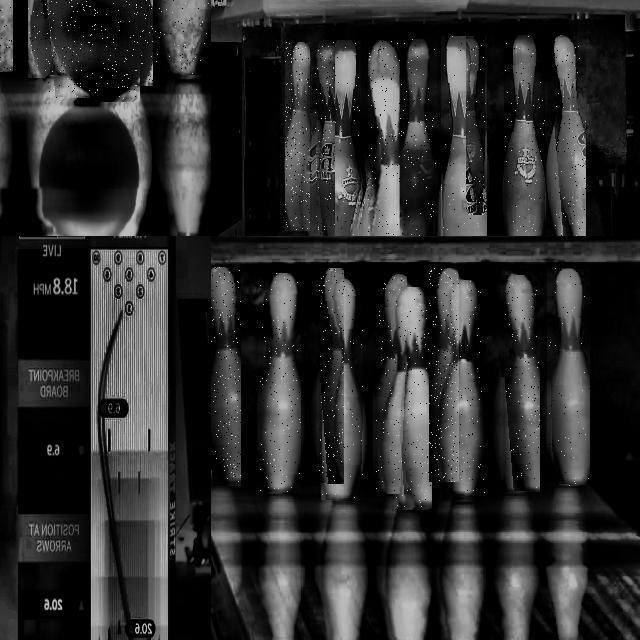bowling-ball: (47, 0, 139, 99)
bowling-pins: (321, 279, 363, 501), (441, 37, 487, 236), (368, 41, 414, 236), (443, 281, 484, 498), (549, 268, 589, 486), (260, 274, 300, 492), (505, 35, 545, 236), (396, 287, 431, 507), (322, 41, 361, 236), (504, 275, 539, 492), (400, 40, 436, 236), (376, 274, 406, 494), (211, 267, 241, 483), (429, 268, 458, 482), (555, 36, 585, 236), (319, 269, 344, 481), (285, 42, 310, 231), (315, 42, 334, 236), (165, 0, 210, 76), (466, 39, 484, 215)
